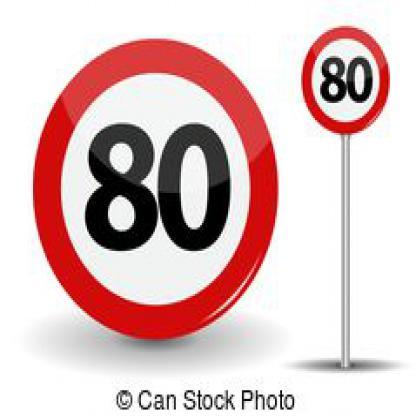Speed Limit 80: (40, 41, 271, 338), (306, 29, 389, 132)
